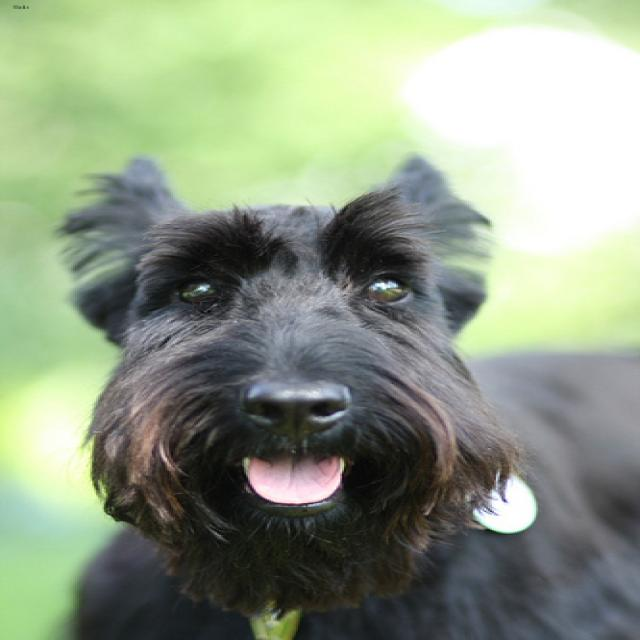dog-scottish_terrier: (38, 142, 636, 637)
